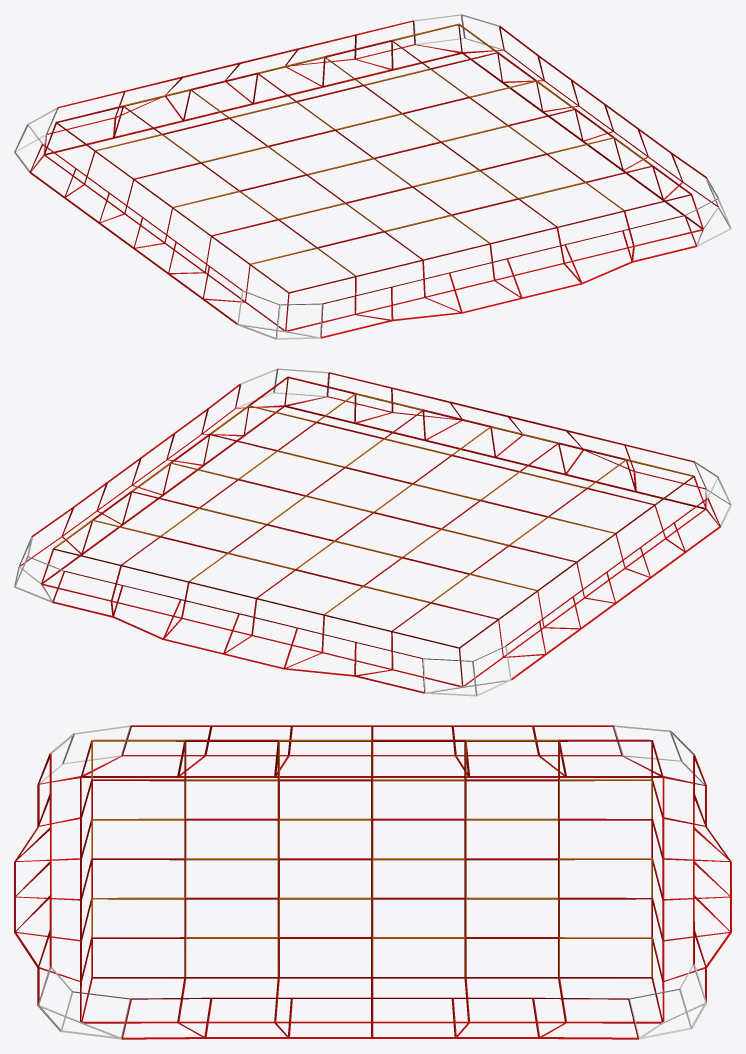
Rendered from wireframeTray.obj.
3 views of the same model, one above another, from view 1: azimuth 30°, elevation 25°; view 2: azimuth 150°, elevation 25°; view 3: azimuth 270°, elevation 25° (orthographic). The views are drawn at different scales.
Parts seen in each view (by area): view 1: Plane.002_Plane.003; view 2: Plane.002_Plane.003; view 3: Plane.002_Plane.003.
Part boxes in pixels (left/top/right/bottom): Plane.002_Plane.003: left=14, top=14, right=731, bottom=339; Plane.002_Plane.003: left=14, top=368, right=731, bottom=696; Plane.002_Plane.003: left=14, top=725, right=731, bottom=1039.
Size of the model in its own units: 401 by 28.11 by 429.
